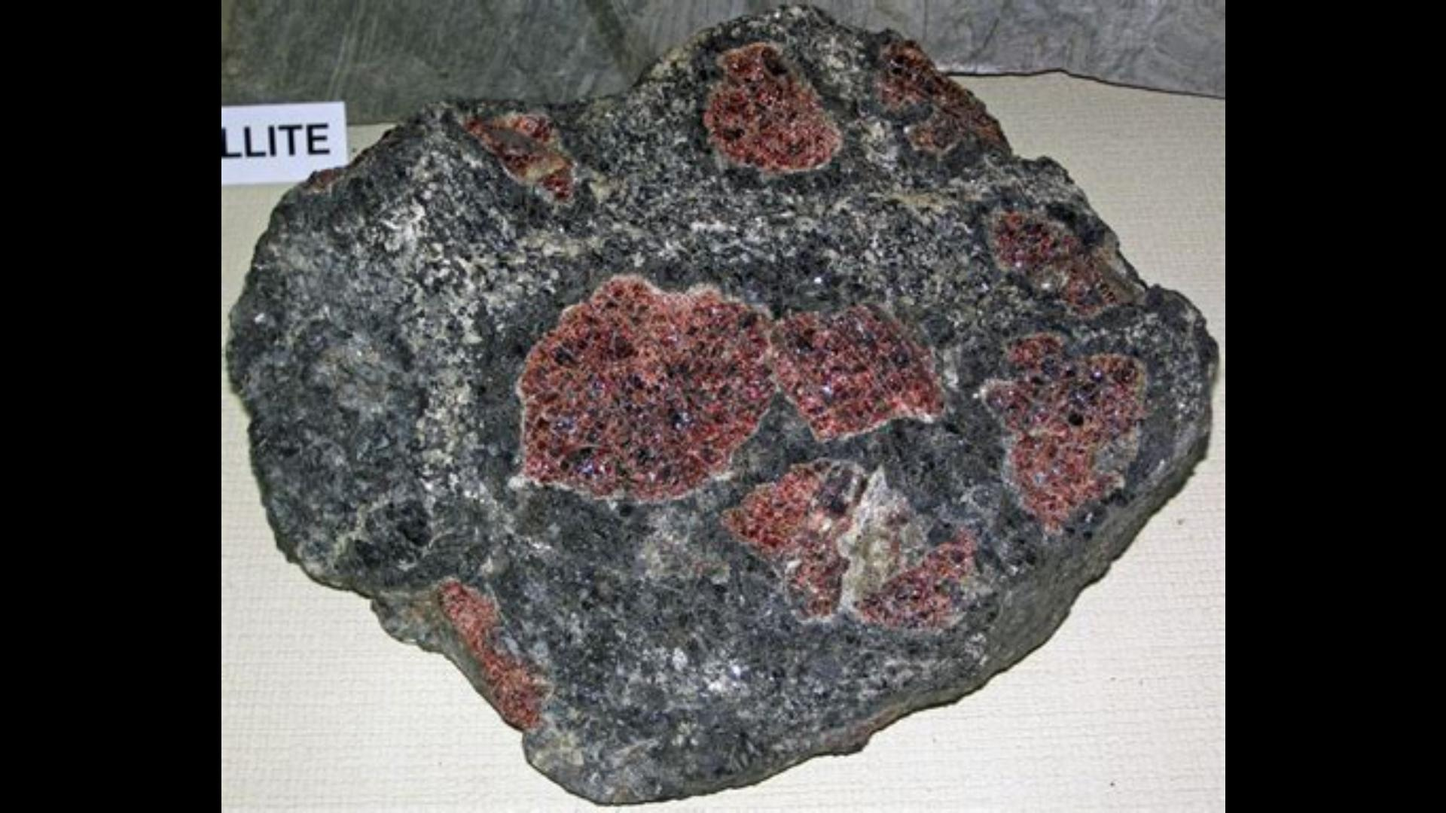rock: (229, 6, 1214, 802)
